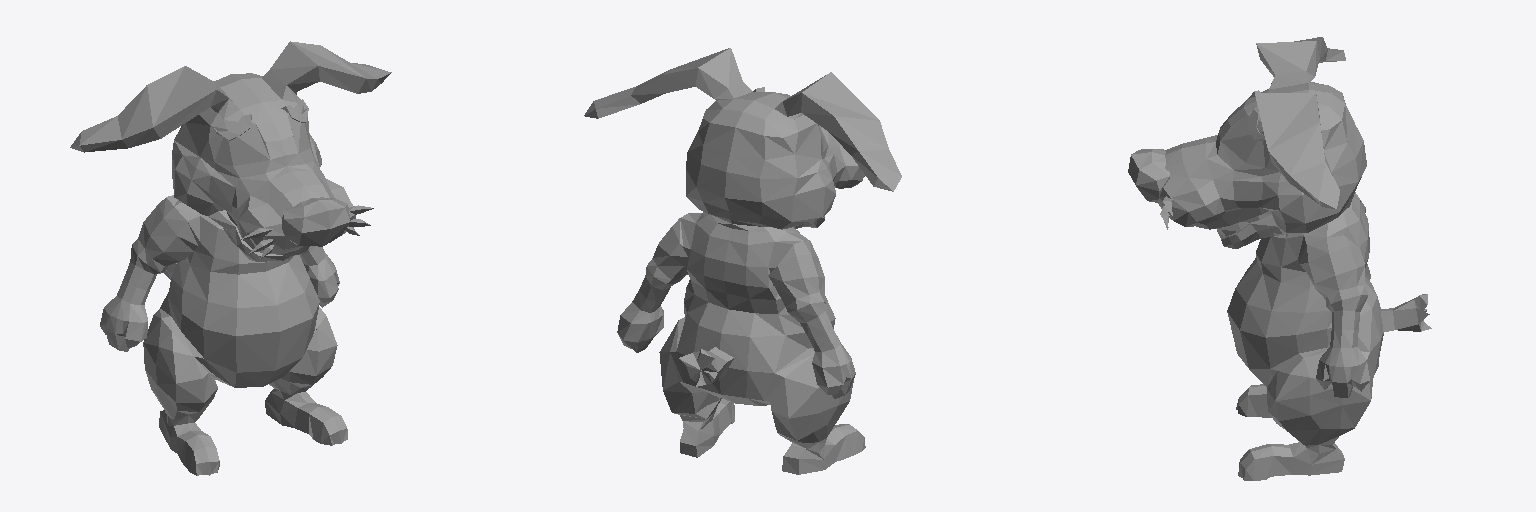
The model's file is Courage.obj.
3 renders of one model, left to right at view 1: azimuth 30°, elevation 25°; view 2: azimuth 150°, elevation 25°; view 3: azimuth 270°, elevation 25°, orthographic.
Visible parts, largest first — view 1: Inst3D_RefRep.3255_Re; view 2: Inst3D_RefRep.3255_Re; view 3: Inst3D_RefRep.3255_Re.
Part boxes in pixels (x1,y1,x2,y2): Inst3D_RefRep.3255_Re: (70,41,391,475); Inst3D_RefRep.3255_Re: (584,48,901,474); Inst3D_RefRep.3255_Re: (1128,37,1431,480).
Size of the model in its own units: 2.65 by 3.08 by 2.24.